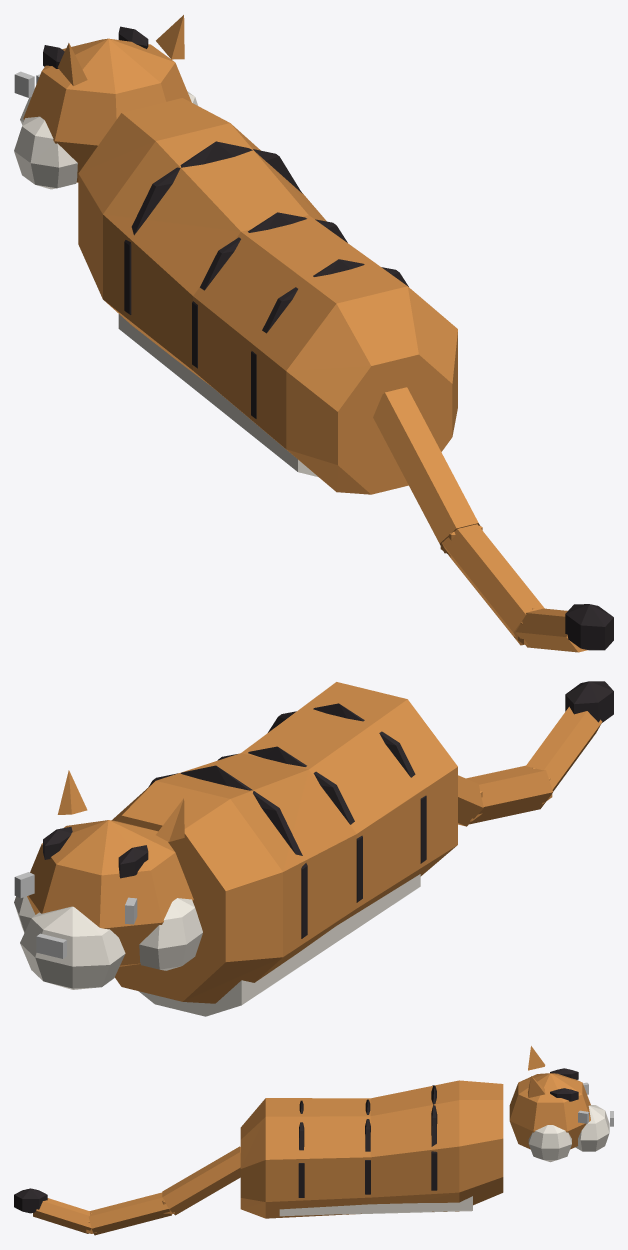
The model's file is animal_tiger.obj.
The picture shows the model from 3 angles, top to bottom: view 1: azimuth 30°, elevation 25°; view 2: azimuth 150°, elevation 25°; view 3: azimuth 270°, elevation 25°; orthographic projection. The views are drawn at different scales.
Visible parts, largest first — view 1: animal_tiger; view 2: animal_tiger; view 3: animal_tiger.
Part boxes in pixels (left/top/right/bottom): animal_tiger: left=14, top=15, right=613, bottom=652; animal_tiger: left=14, top=681, right=613, bottom=1016; animal_tiger: left=14, top=1046, right=613, bottom=1235.
Bounding box in the file's own units: 0.4066 × 0.6925 × 2.17.
